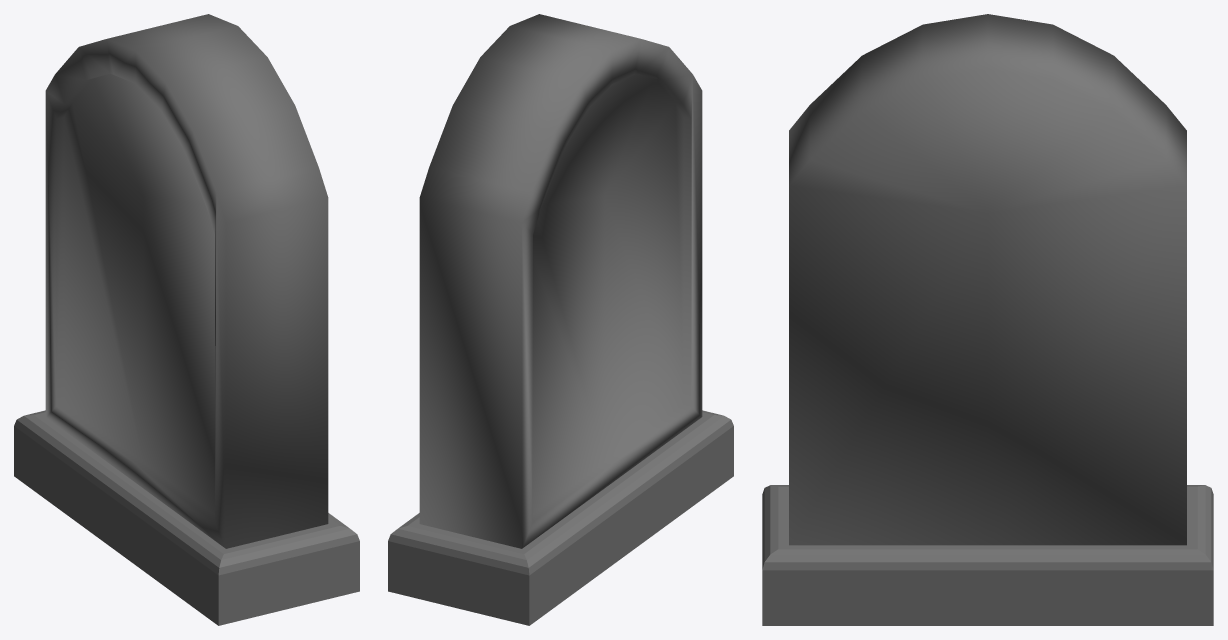
File: Grave.obj
3 renders of one model, left to right at view 1: azimuth 30°, elevation 25°; view 2: azimuth 150°, elevation 25°; view 3: azimuth 270°, elevation 25°, orthographic. The views are drawn at different scales.
Parts seen in each view (by area): view 1: cemetery03.001; view 2: cemetery03.001; view 3: cemetery03.001.
Boxes of the visible parts, <box> form: cemetery03.001: <box>14,14,359,625</box>; cemetery03.001: <box>388,14,733,625</box>; cemetery03.001: <box>762,14,1213,625</box>.
Size of the model in its own units: 0.9045 by 3.03 by 2.27.
Materials: 1 (1 with a texture image).
